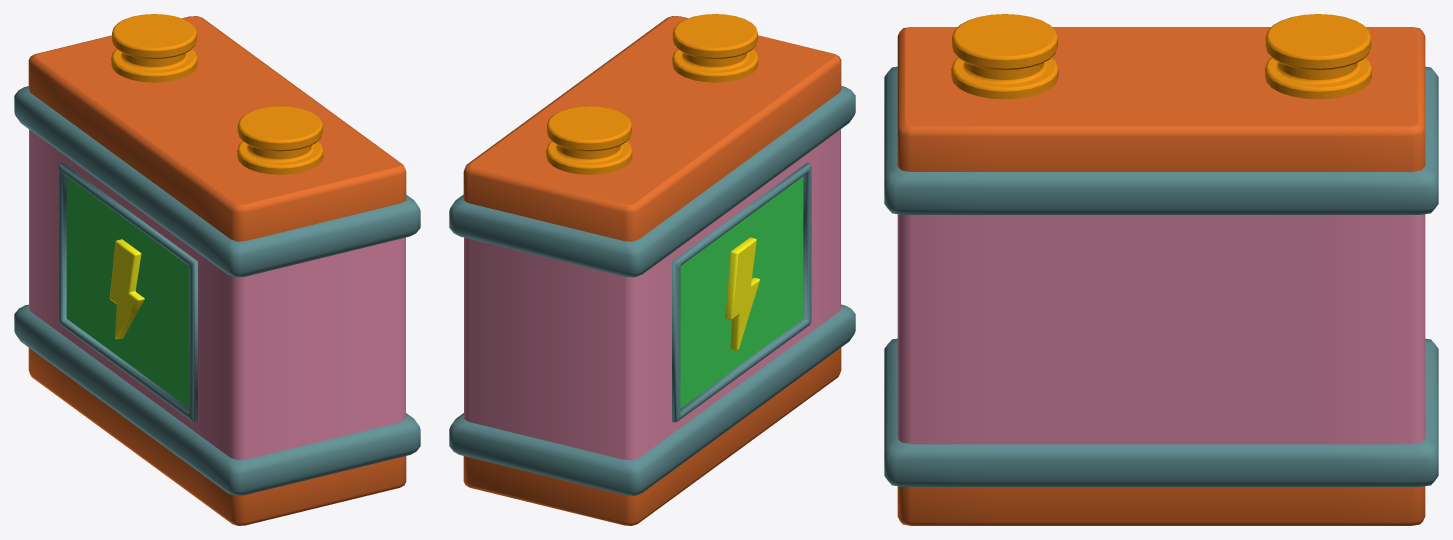
File: battery_Level3_3.fbx
The picture shows the model from 3 angles, left to right: view 1: azimuth 30°, elevation 25°; view 2: azimuth 150°, elevation 25°; view 3: azimuth 270°, elevation 25°; orthographic projection. The views are drawn at different scales.
Visible parts, largest first — view 1: Grom.002; view 2: Grom.002; view 3: Grom.002.
Part boxes in pixels (x1,y1,x2,y2): Grom.002: [14, 14, 420, 525]; Grom.002: [449, 14, 855, 525]; Grom.002: [884, 14, 1438, 525].
Size of the model in its own units: 0.9402 by 1.66 by 1.9.
